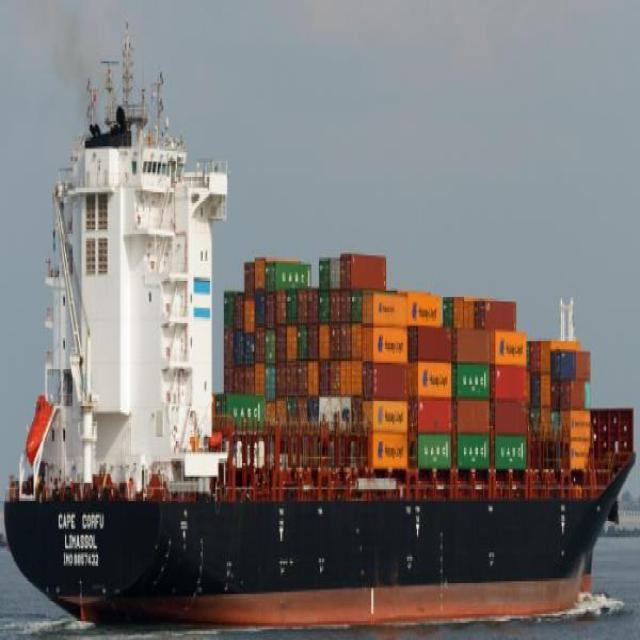Container Ship: (10, 19, 638, 630)
